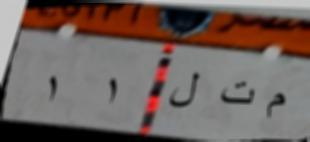1: (104, 72, 122, 109), (45, 72, 64, 107)
laam: (166, 66, 202, 113)
meem: (263, 86, 286, 123)
taa: (218, 77, 256, 111)
